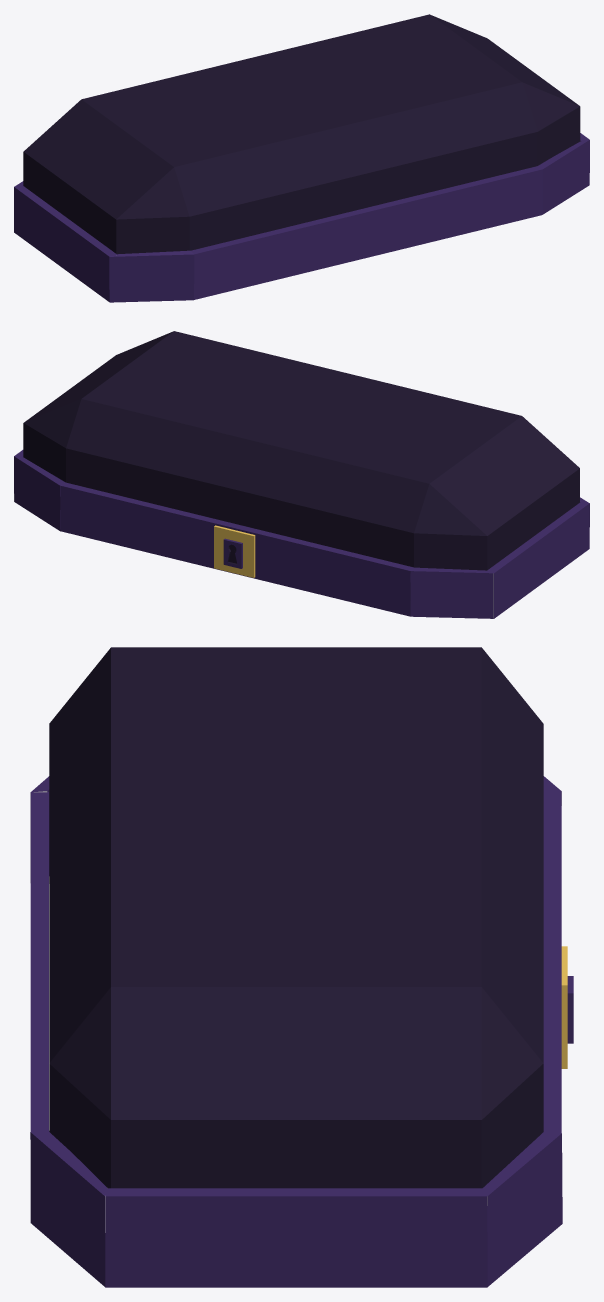
The model's file is tampa_ajustada.gltf.
3 renders of one model, top to bottom at view 1: azimuth 30°, elevation 25°; view 2: azimuth 150°, elevation 25°; view 3: azimuth 270°, elevation 25°, orthographic. The views are drawn at different scales.
Parts seen in each view (by area): view 1: tampa, faixa_posterior, faixa_diagonal (×2), faixa_lateral; view 2: tampa, faixa_frontal, faixa_diagonal (×2), faixa_lateral, suporte, buraco; view 3: tampa, faixa_lateral, faixa_diagonal (×2), faixa_frontal, faixa_posterior, suporte.
Part boxes in pixels (x1,y1,x2,y2): tampa: [23, 14, 580, 254]; faixa_posterior: [191, 166, 542, 299]; faixa_diagonal (×2): [109, 139, 589, 302]; faixa_lateral: [14, 186, 117, 301]; tampa: [23, 331, 579, 570]; faixa_frontal: [60, 482, 414, 616]; faixa_diagonal (×2): [14, 456, 493, 618]; faixa_lateral: [486, 501, 589, 618]; suporte: [214, 525, 255, 577]; buraco: [223, 538, 242, 568]; tampa: [49, 647, 543, 1188]; faixa_lateral: [105, 1188, 487, 1287]; faixa_diagonal (×2): [30, 1130, 562, 1286]; faixa_frontal: [543, 791, 561, 1132]; faixa_posterior: [30, 792, 48, 1131]; suporte: [561, 946, 567, 1068].
Size of the model in its own units: 30.03 by 7.06 by 14.71.
6 materials, 3 textured.
